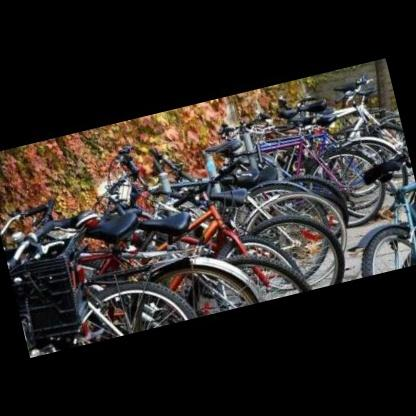Bicycle: (83, 162, 370, 298), (9, 198, 203, 348), (352, 158, 415, 288)
